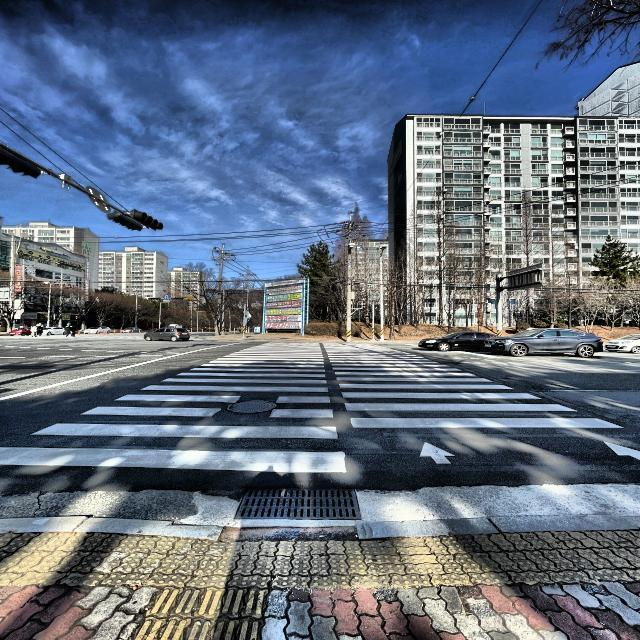crosswalk: (321, 341, 626, 431)
